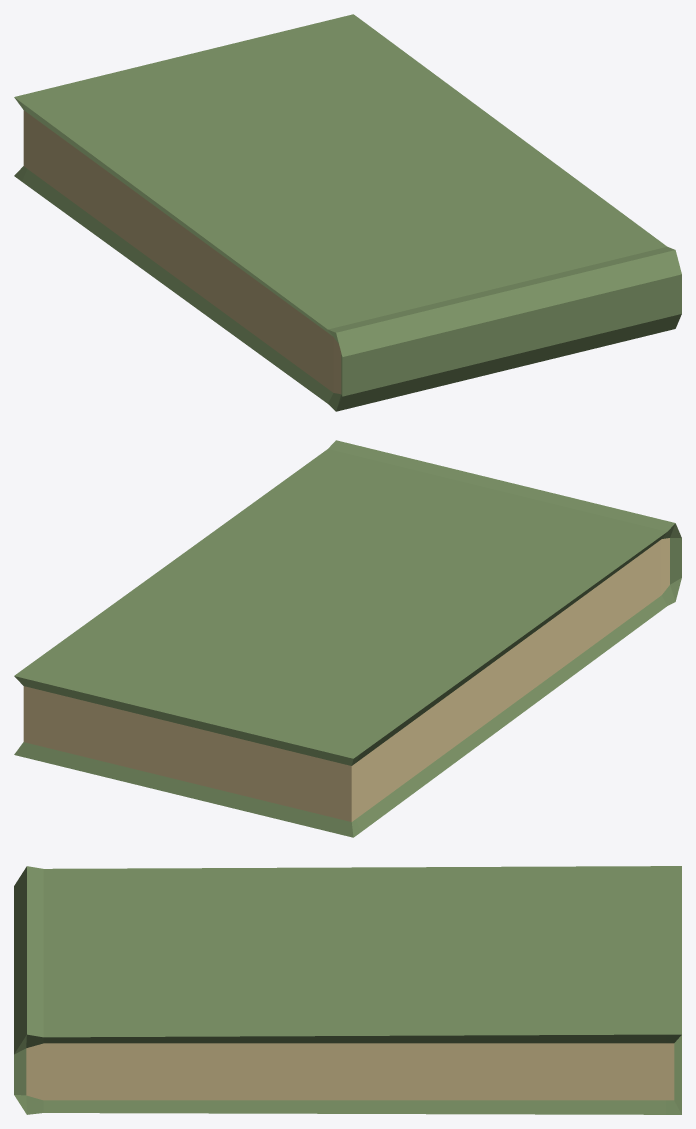
File: LongBook.fbx
The picture shows the model from 3 angles, top to bottom: view 1: azimuth 30°, elevation 25°; view 2: azimuth 150°, elevation 25°; view 3: azimuth 270°, elevation 25°; orthographic projection.
Parts seen in each view (by area): view 1: Cube; view 2: Cube; view 3: Cube.
Part boxes in pixels (x1,y1,x2,y2): Cube: [14, 14, 681, 411]; Cube: [14, 440, 681, 837]; Cube: [14, 866, 681, 1114].
Size of the model in its own units: 180 by 40 by 302.
